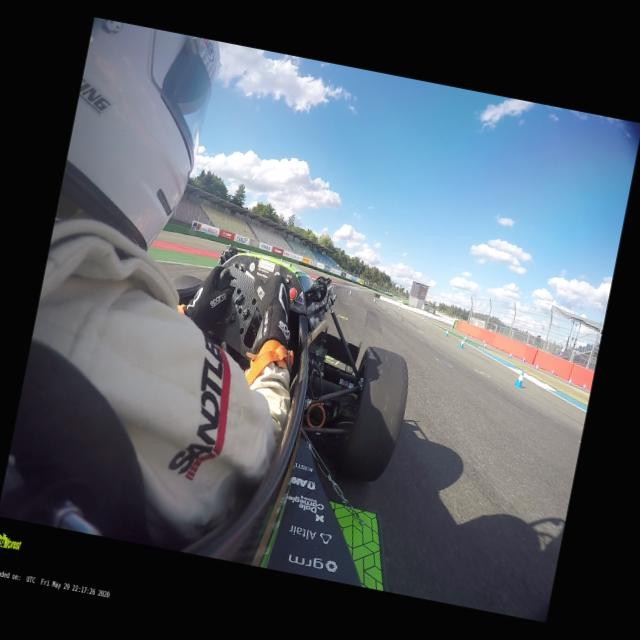blue_cone: (514, 369, 526, 388), (460, 339, 464, 348), (483, 341, 488, 348), (568, 378, 572, 385), (444, 330, 448, 336), (535, 364, 539, 370), (463, 336, 467, 342), (508, 352, 512, 358), (551, 369, 555, 375), (372, 298, 376, 304), (582, 384, 586, 389), (523, 356, 526, 362), (348, 290, 351, 296), (451, 326, 454, 331), (398, 306, 400, 312), (423, 316, 425, 320)
